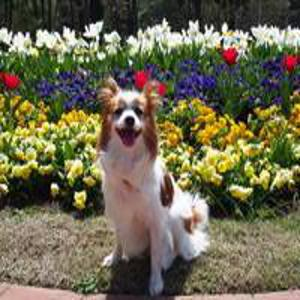yell: (93, 84, 205, 292)
